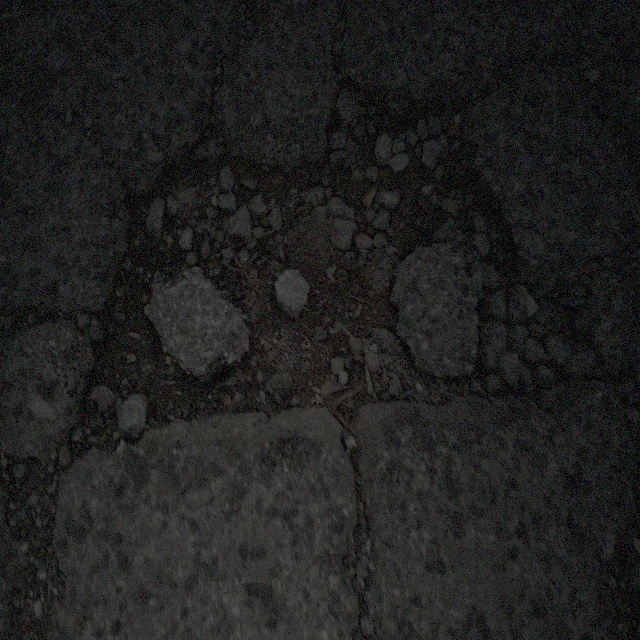pothole: (83, 72, 558, 431)
